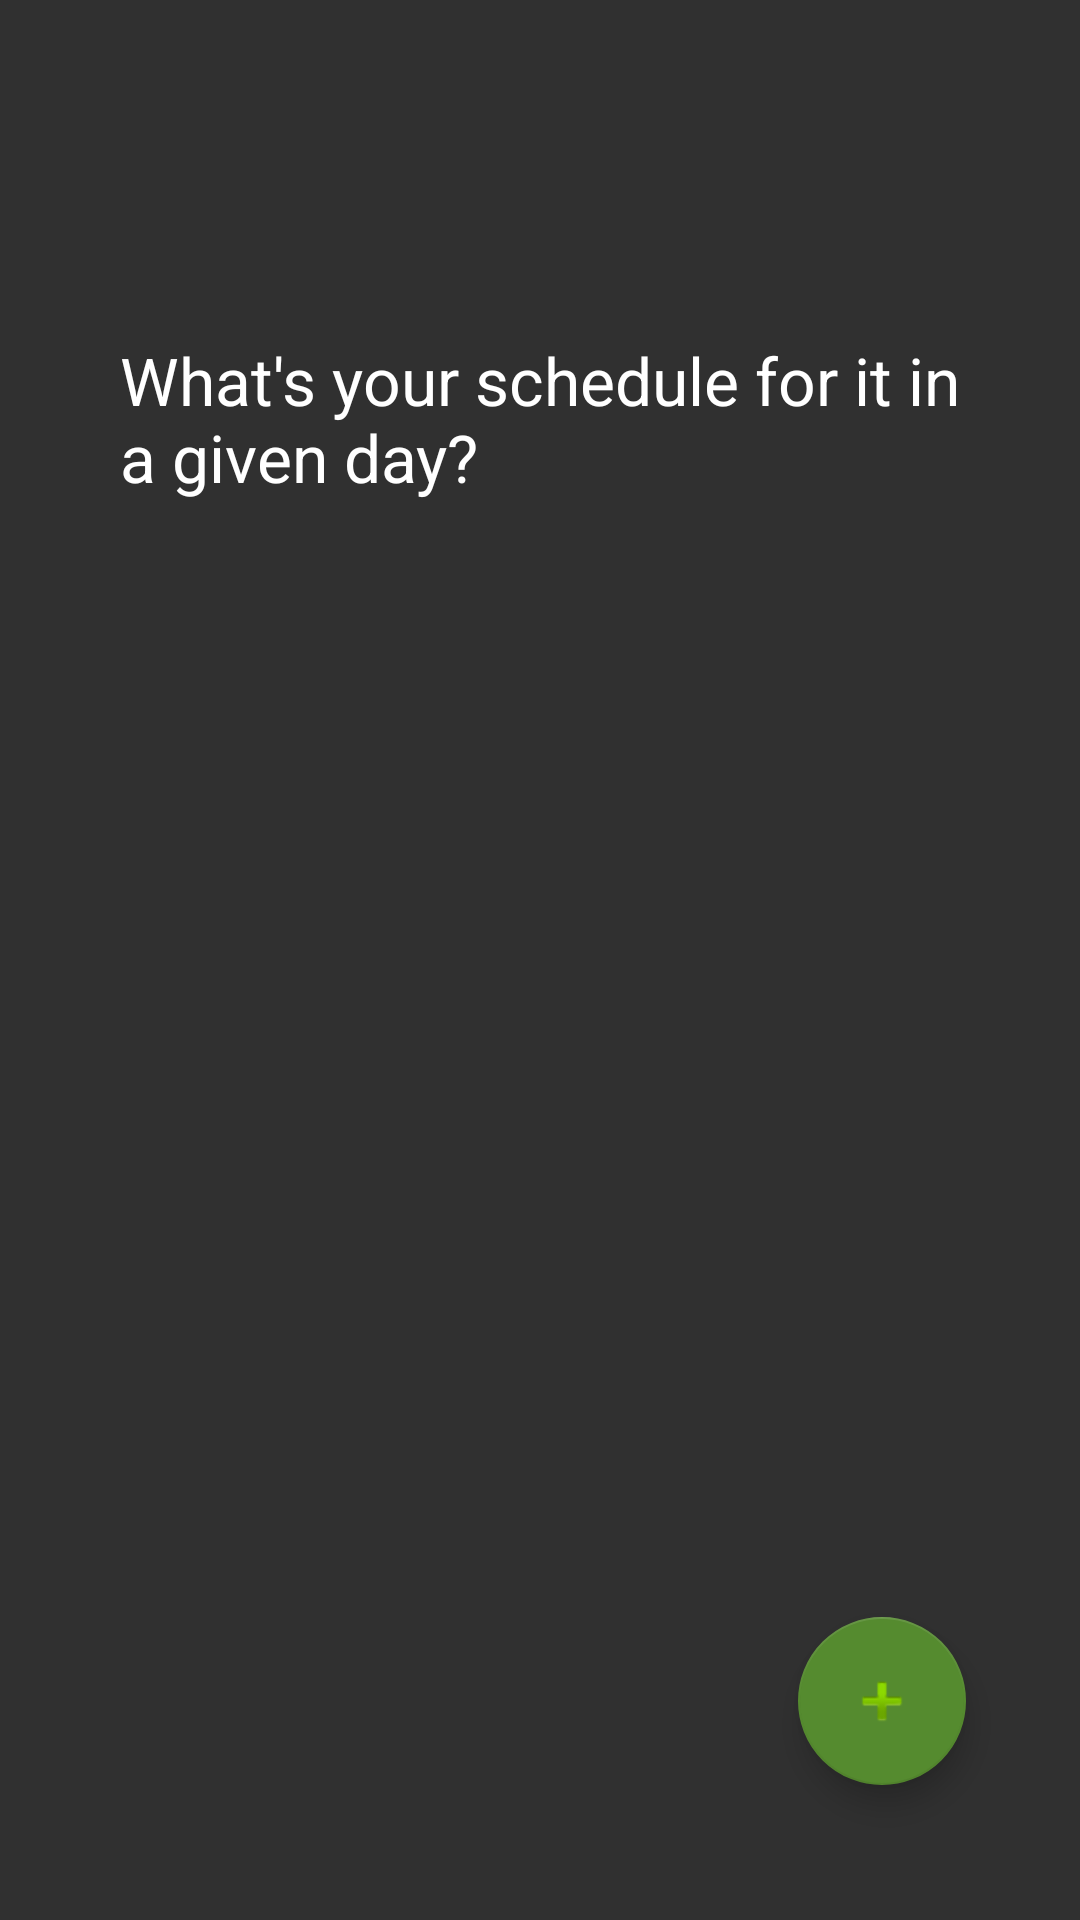

Icons on this 1080*1920 Android screen, each with its box as (x1, y1, x2, y2):
add: (798, 1617, 966, 1785)
